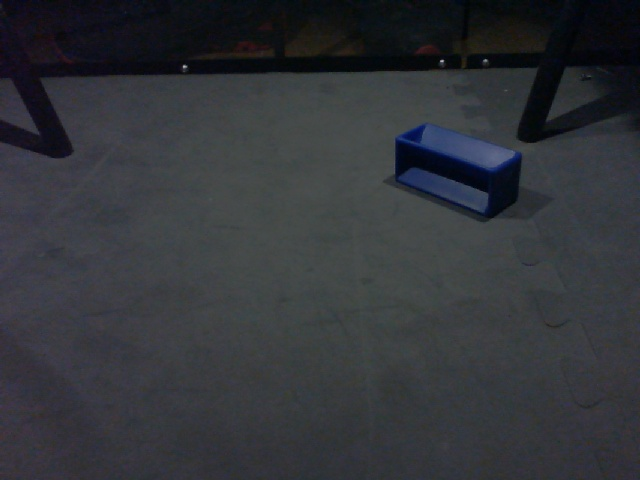BlueSample: (392, 120, 523, 223)
